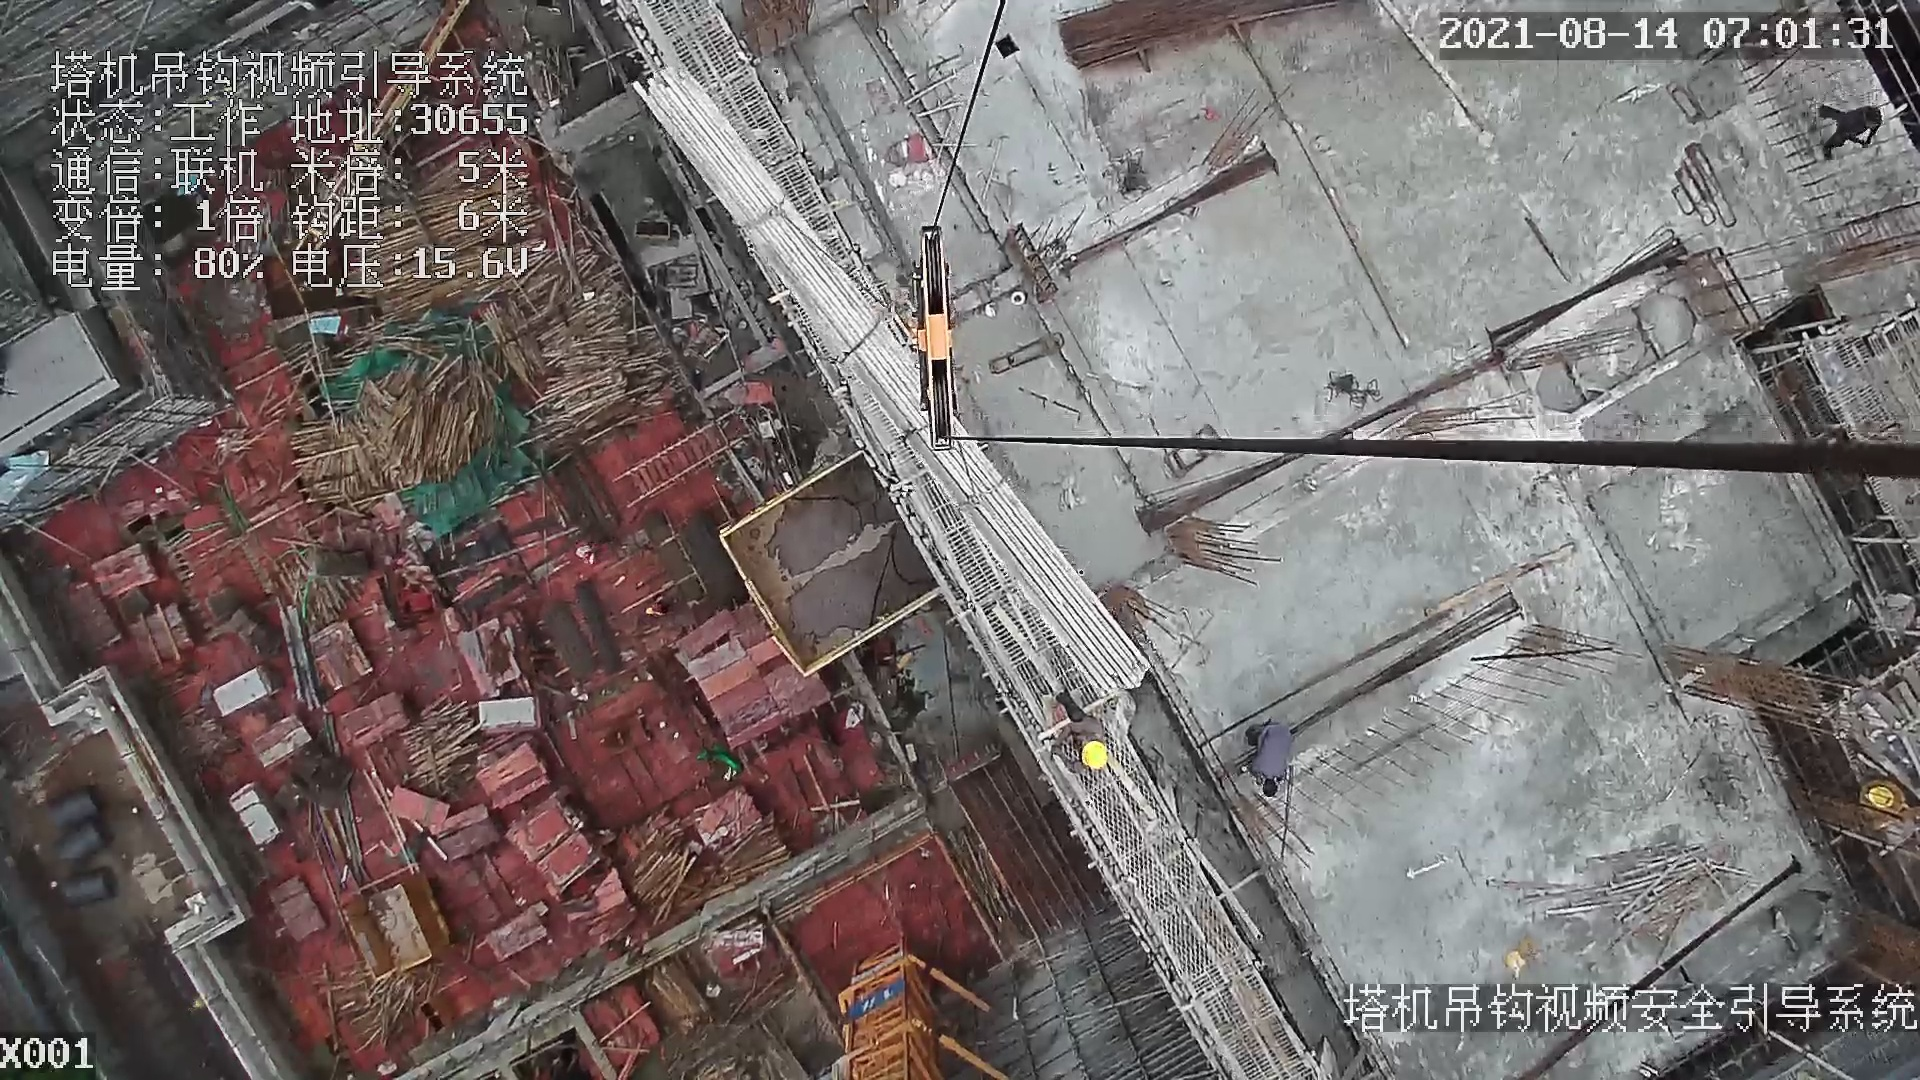helmet: (1072, 739, 1110, 770)
hook: (899, 223, 972, 460)
person: (1804, 85, 1905, 176), (1054, 692, 1113, 778), (1249, 717, 1297, 797)
